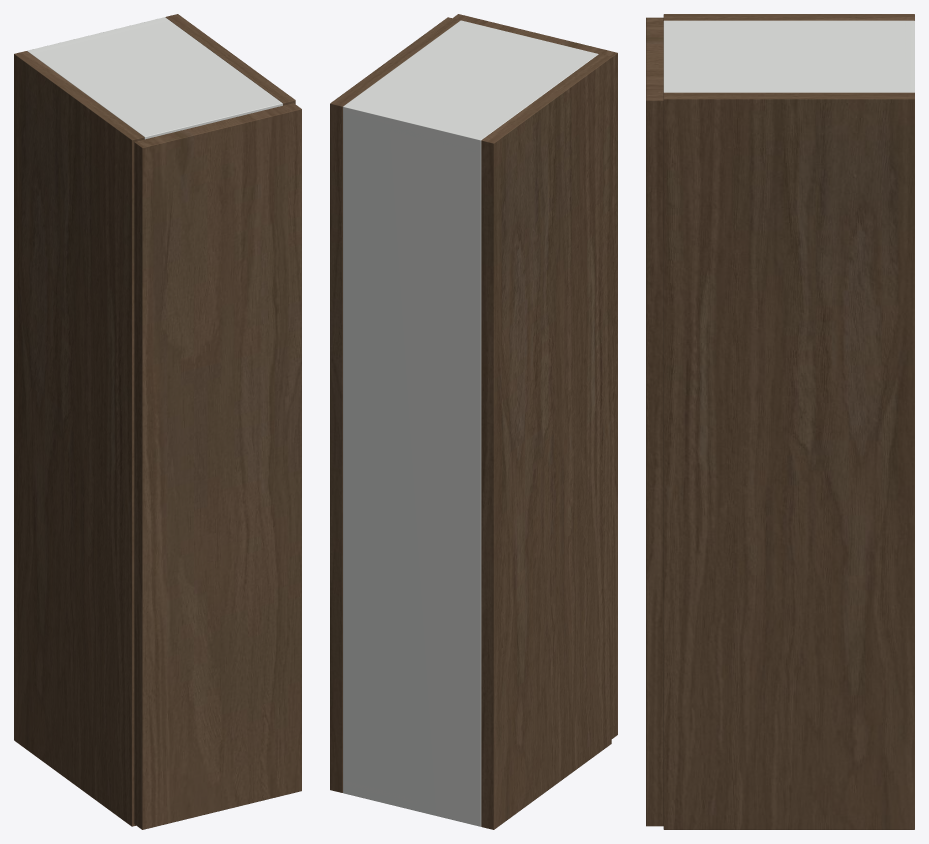
Rendered from oppein-pb-mso-w0936.glb.
3 renders of one model, left to right at view 1: azimuth 30°, elevation 25°; view 2: azimuth 150°, elevation 25°; view 3: azimuth 270°, elevation 25°, orthographic. The views are drawn at different scales.
Parts seen in each view (by area): view 1: Door, Cabinet side, Cabinet top, Cabinet side.001, Cabinet back; view 2: Cabinet back, Cabinet side, Cabinet top, Cabinet side.001, Door; view 3: Cabinet side.001, Cabinet top, Door, Cabinet side, Cabinet back.
Boxes of the visible parts, <box> form: Door: <box>134,103,301,829</box>; Cabinet side: <box>14,51,144,826</box>; Cabinet top: <box>28,20,282,139</box>; Cabinet side.001: <box>165,14,295,105</box>; Cabinet back: <box>27,17,168,53</box>; Cabinet back: <box>343,103,485,826</box>; Cabinet side: <box>481,54,611,829</box>; Cabinet top: <box>343,20,598,151</box>; Cabinet side.001: <box>330,17,460,792</box>; Door: <box>453,14,617,738</box>; Cabinet side.001: <box>663,92,914,829</box>; Cabinet top: <box>663,20,914,92</box>; Door: <box>646,17,663,826</box>; Cabinet side: <box>663,14,914,20</box>; Cabinet back: <box>905,20,914,92</box>.
Bounding box in the file's own units: 0.2286 × 0.9144 × 0.3048.
2 materials, 1 textured.
